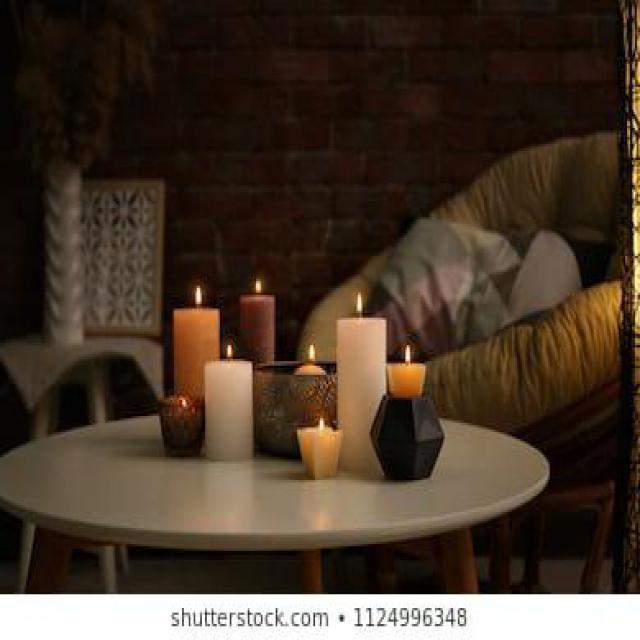Fire: (404, 346, 412, 364), (196, 286, 201, 306), (256, 279, 262, 295), (358, 292, 362, 316), (226, 346, 233, 358), (310, 345, 315, 361)
